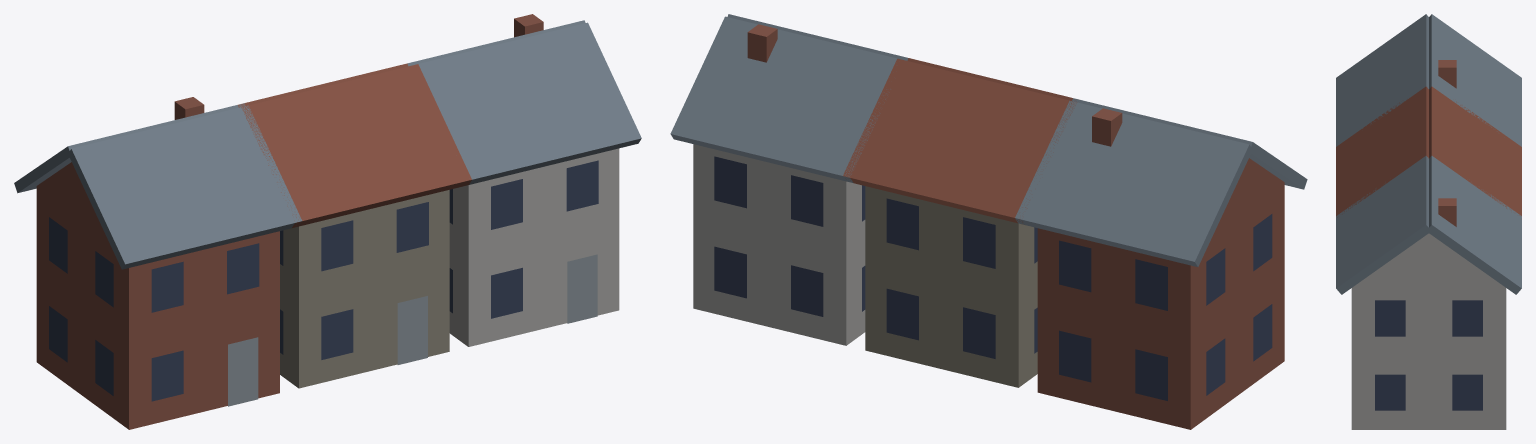
The model's file is house_lvl1.glb.
3 views of the same model, side by side, from view 1: azimuth 30°, elevation 25°; view 2: azimuth 150°, elevation 25°; view 3: azimuth 270°, elevation 25° (orthographic). The views are drawn at different scales.
Visible parts, largest first — view 1: house; view 2: house; view 3: house.
Boxes of the visible parts, x1=… form: house: x1=14, y1=14, x2=641, y2=429; house: x1=670, y1=14, x2=1307, y2=429; house: x1=1336, y1=14, x2=1521, y2=429.
Size of the model in its own units: 1 by 0.4739 by 0.3725.
